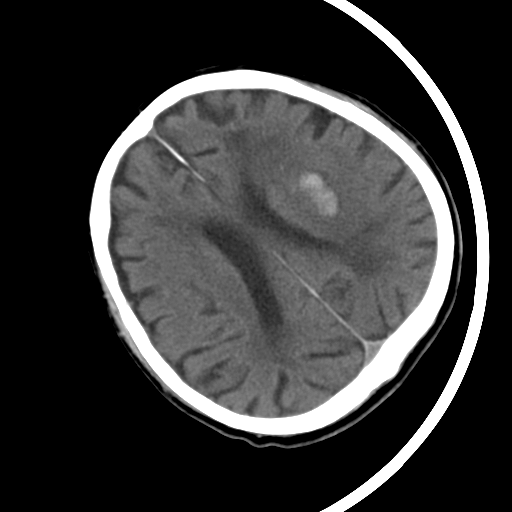a: (280, 158, 351, 233)
